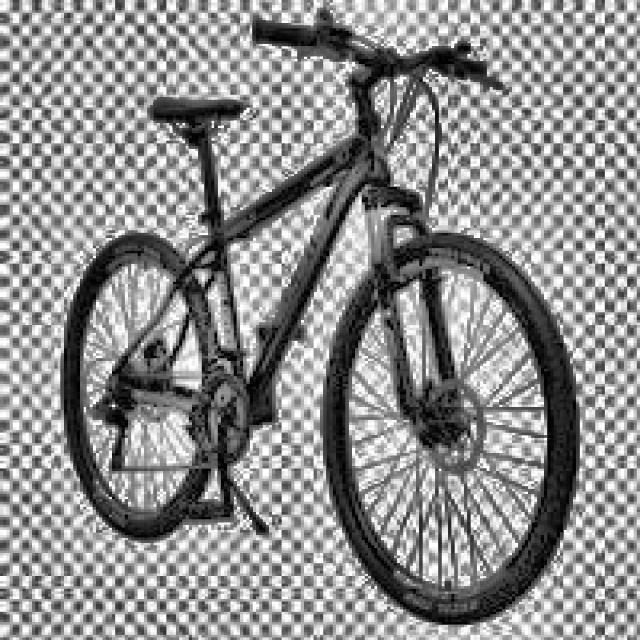bike: (61, 10, 606, 622)
